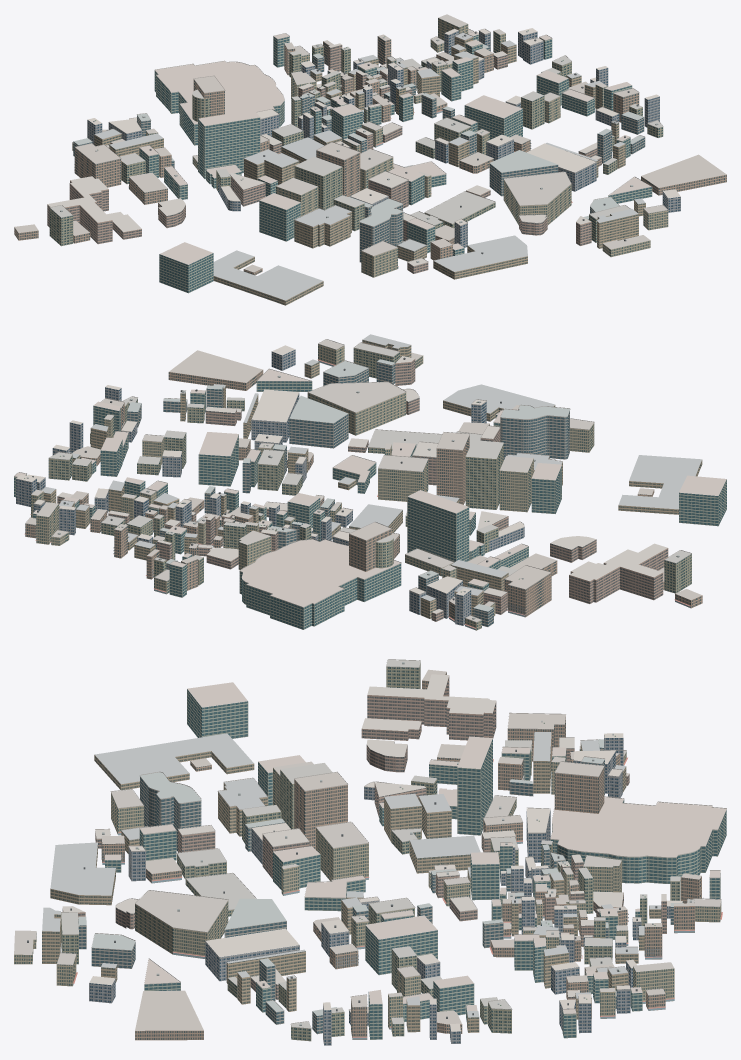
3 views of the same model, one above another, from view 1: azimuth 30°, elevation 25°; view 2: azimuth 150°, elevation 25°; view 3: azimuth 270°, elevation 25° (orthographic). The views are drawn at different scales.
Parts seen in each view (by area): view 1: Station 11 surrounding real OSM building footprints; view 2: Station 11 surrounding real OSM building footprints; view 3: Station 11 surrounding real OSM building footprints.
Boxes of the visible parts, left/top/right/bottom form: Station 11 surrounding real OSM building footprints: left=14, top=14, right=726, bottom=305; Station 11 surrounding real OSM building footprints: left=14, top=334, right=726, bottom=630; Station 11 surrounding real OSM building footprints: left=14, top=659, right=726, bottom=1045.
Bounding box in the file's own units: 752 × 64.81 × 618.
Materials: 25 (8 with a texture image).
